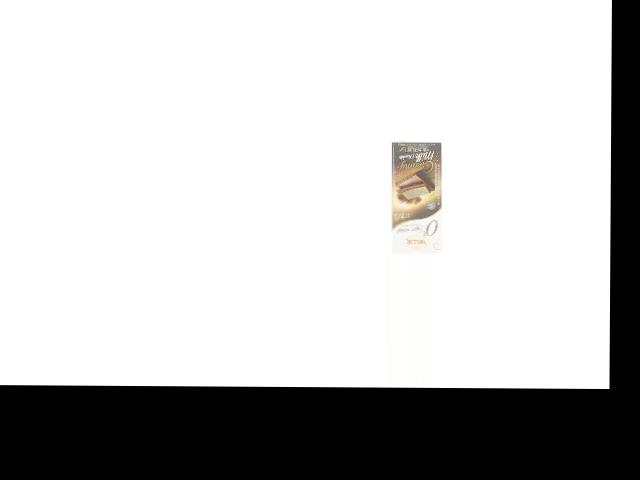chocolate: (389, 141, 445, 253)
